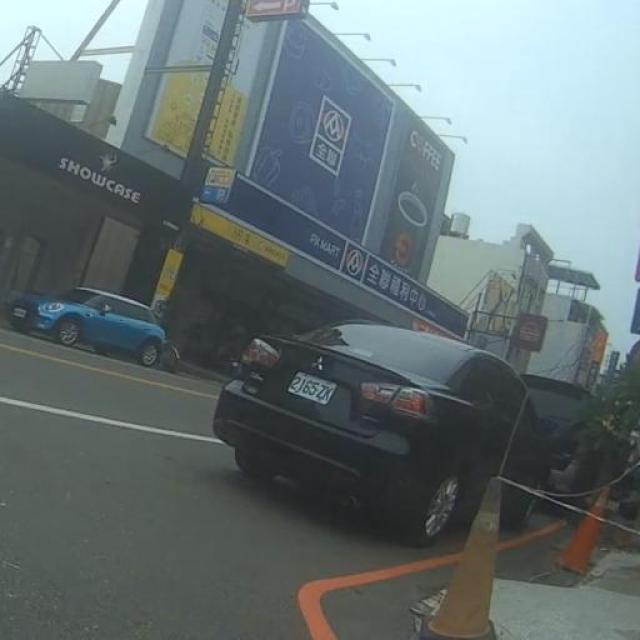Legalparking: (9, 286, 164, 366)
illegalparking: (214, 321, 590, 544)
